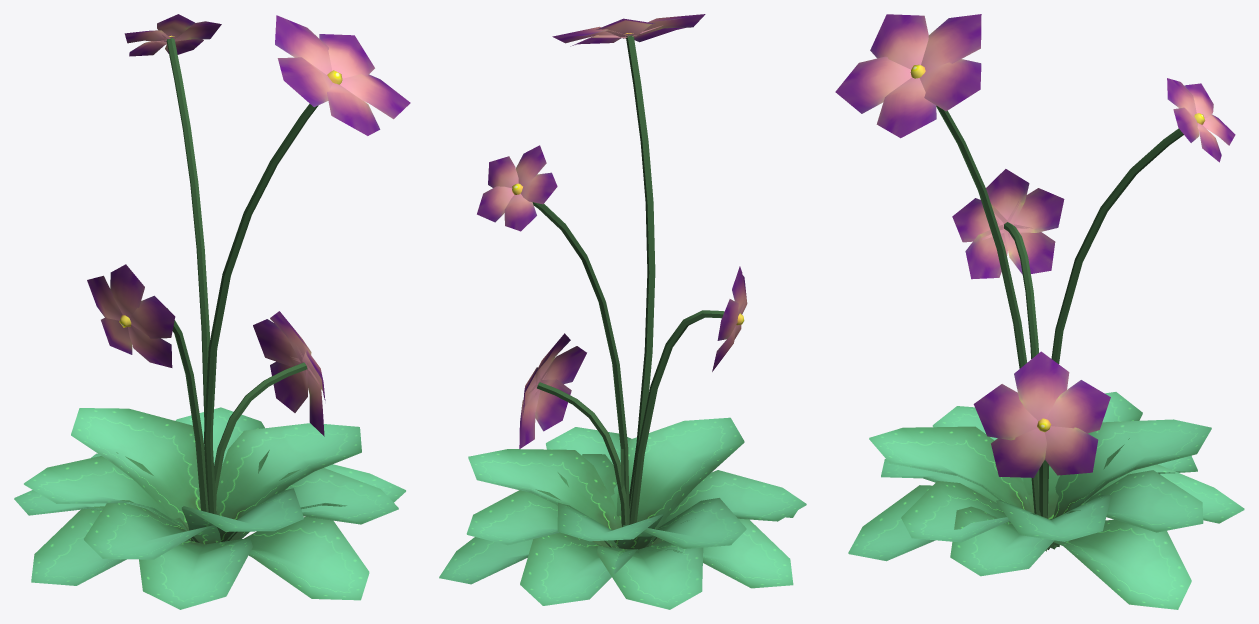
File: fleur mini.fbx
3 views of the same model, side by side, from view 1: azimuth 30°, elevation 25°; view 2: azimuth 150°, elevation 25°; view 3: azimuth 270°, elevation 25° (orthographic). The views are drawn at different scales.
Visible parts, largest first — view 1: Object001; view 2: Object001; view 3: Object001.
Boxes of the visible parts, x1=… form: Object001: x1=14, y1=14, x2=410, y2=609; Object001: x1=439, y1=14, x2=806, y2=609; Object001: x1=835, y1=14, x2=1244, y2=609.
Bounding box in the file's own units: 8.59 × 13.28 × 8.99.
